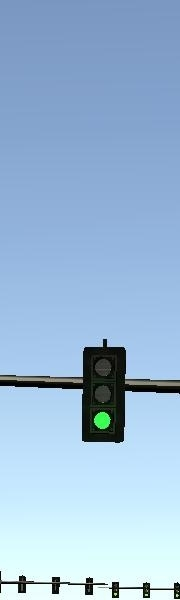Green: (80, 346, 126, 445)
